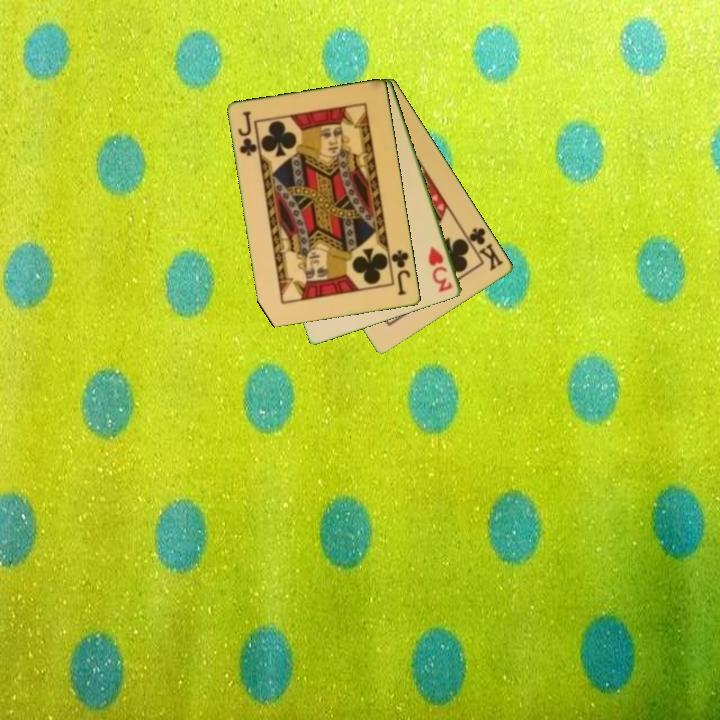3h: (425, 243, 456, 295)
Jc: (388, 246, 414, 298), (235, 108, 260, 159)
Kc: (461, 224, 507, 274)
